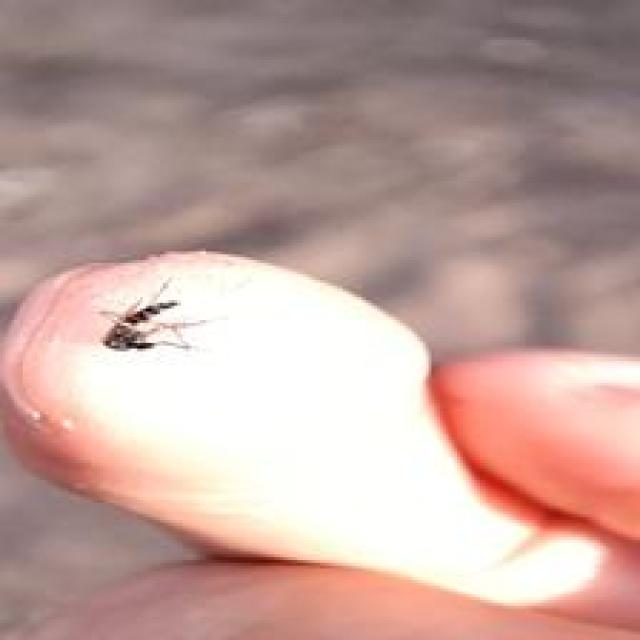Aedes albopictus: (99, 277, 204, 354)
